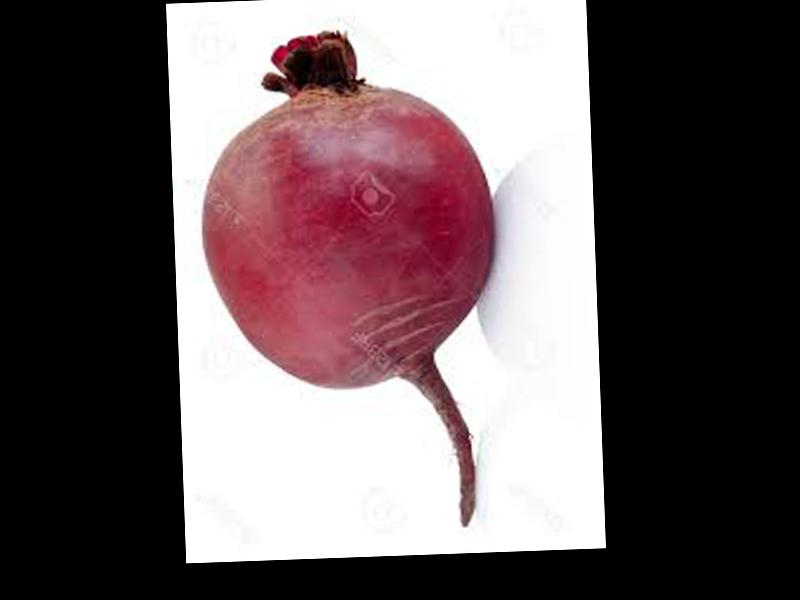Beet: (197, 31, 504, 535)
